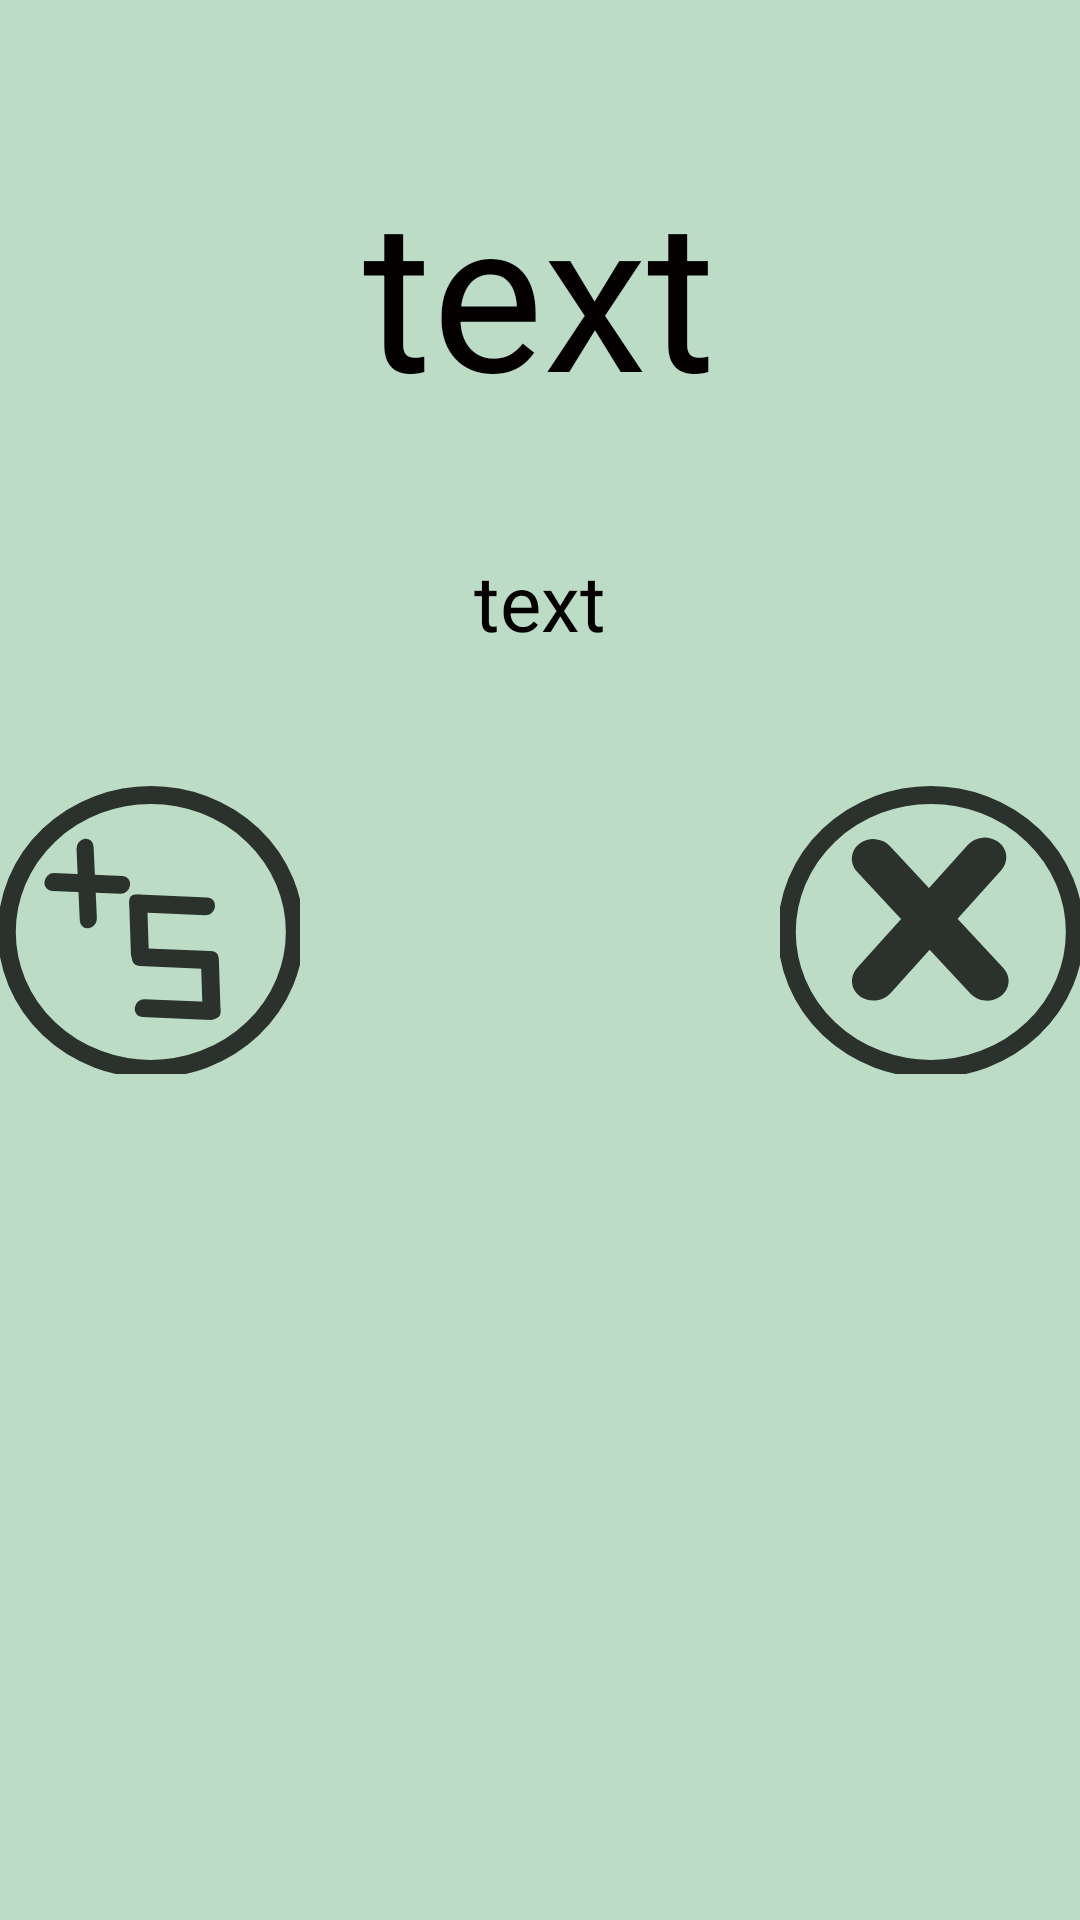

Where to tap for icons on this 1080px×1920px app screen, as point (x, y):
cincomin: point (150, 930)
xparar: point (930, 930)
